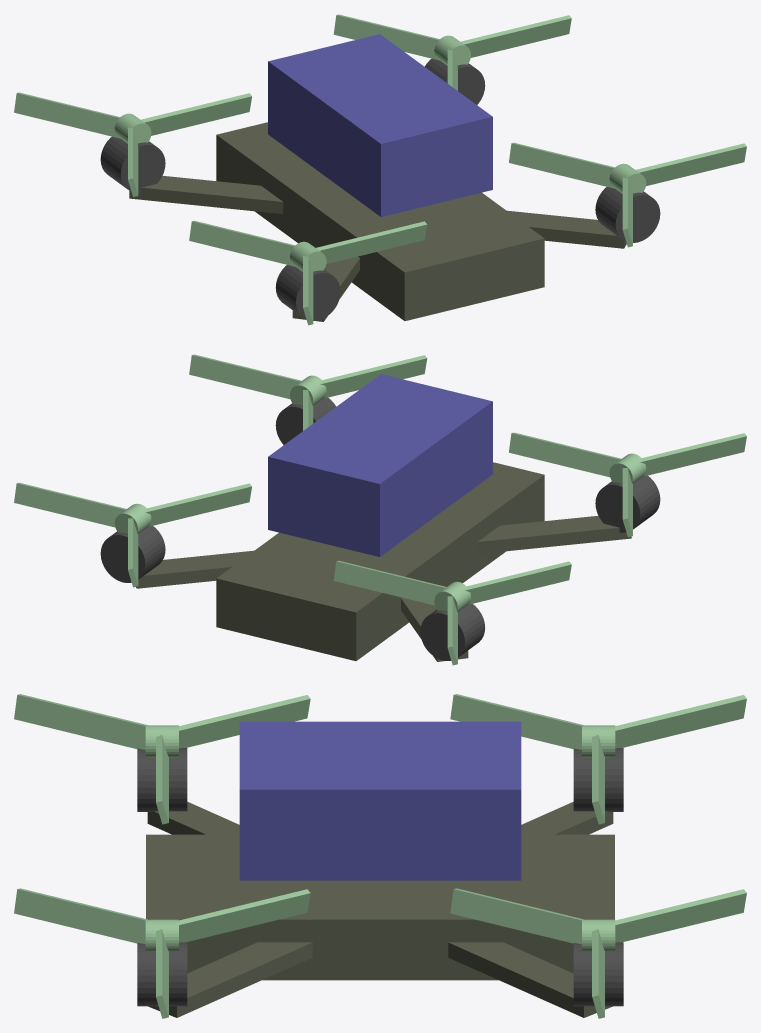
Rendered from Karearea Talon.glb.
3 renders of one model, top to bottom at view 1: azimuth 30°, elevation 25°; view 2: azimuth 150°, elevation 25°; view 3: azimuth 270°, elevation 25°, orthographic. The views are drawn at different scales.
Visible parts, largest first — view 1: battery, frame_body, prop_3, prop_2, prop_0, prop_1, arm_3, arm_0, motor_2, motor_0, motor_3, motor_1 (+1 smaller); view 2: battery, frame_body, prop_1, prop_2, prop_3, prop_0, arm_2, arm_1, motor_1, motor_3, motor_2, motor_0 (+1 smaller); view 3: battery, frame_body, prop_0, prop_1, prop_2, prop_3, arm_1, arm_0, motor_1, motor_0, motor_3, motor_2 (+2 smaller).
Boxes of the visible parts, x1,y1,x2,y2 form: battery: (268,34,492,216); frame_body: (216,122,544,320); prop_3: (14,92,251,197); prop_2: (189,220,427,325); prop_0: (509,142,746,247); prop_1: (333,14,571,90); arm_3: (129,175,283,213); arm_0: (507,210,626,248); motor_2: (275,265,340,320); motor_0: (595,187,660,242); motor_3: (100,136,165,192); motor_1: (424,58,485,104); battery: (268,374,492,556); frame_body: (216,462,544,660); prop_1: (14,482,251,587); prop_2: (509,432,746,537); prop_3: (333,560,571,665); prop_0: (189,354,427,430); arm_2: (477,515,631,553); arm_1: (136,550,253,588); motor_1: (100,526,165,582); motor_3: (420,604,485,660); motor_2: (595,475,660,532); motor_0: (275,397,336,444); battery: (239,721,521,880); frame_body: (146,834,614,980); prop_0: (14,888,310,1018); prop_1: (450,888,746,1018); prop_2: (14,694,310,824); prop_3: (450,694,746,824); arm_1: (448,942,612,1017); arm_0: (148,942,312,1017); motor_1: (573,942,623,1006); motor_0: (137,942,187,1006); motor_3: (573,748,623,811); motor_2: (137,748,187,811).
Bounding box in the file's own units: 0.2139 × 0.06 × 0.2187.
